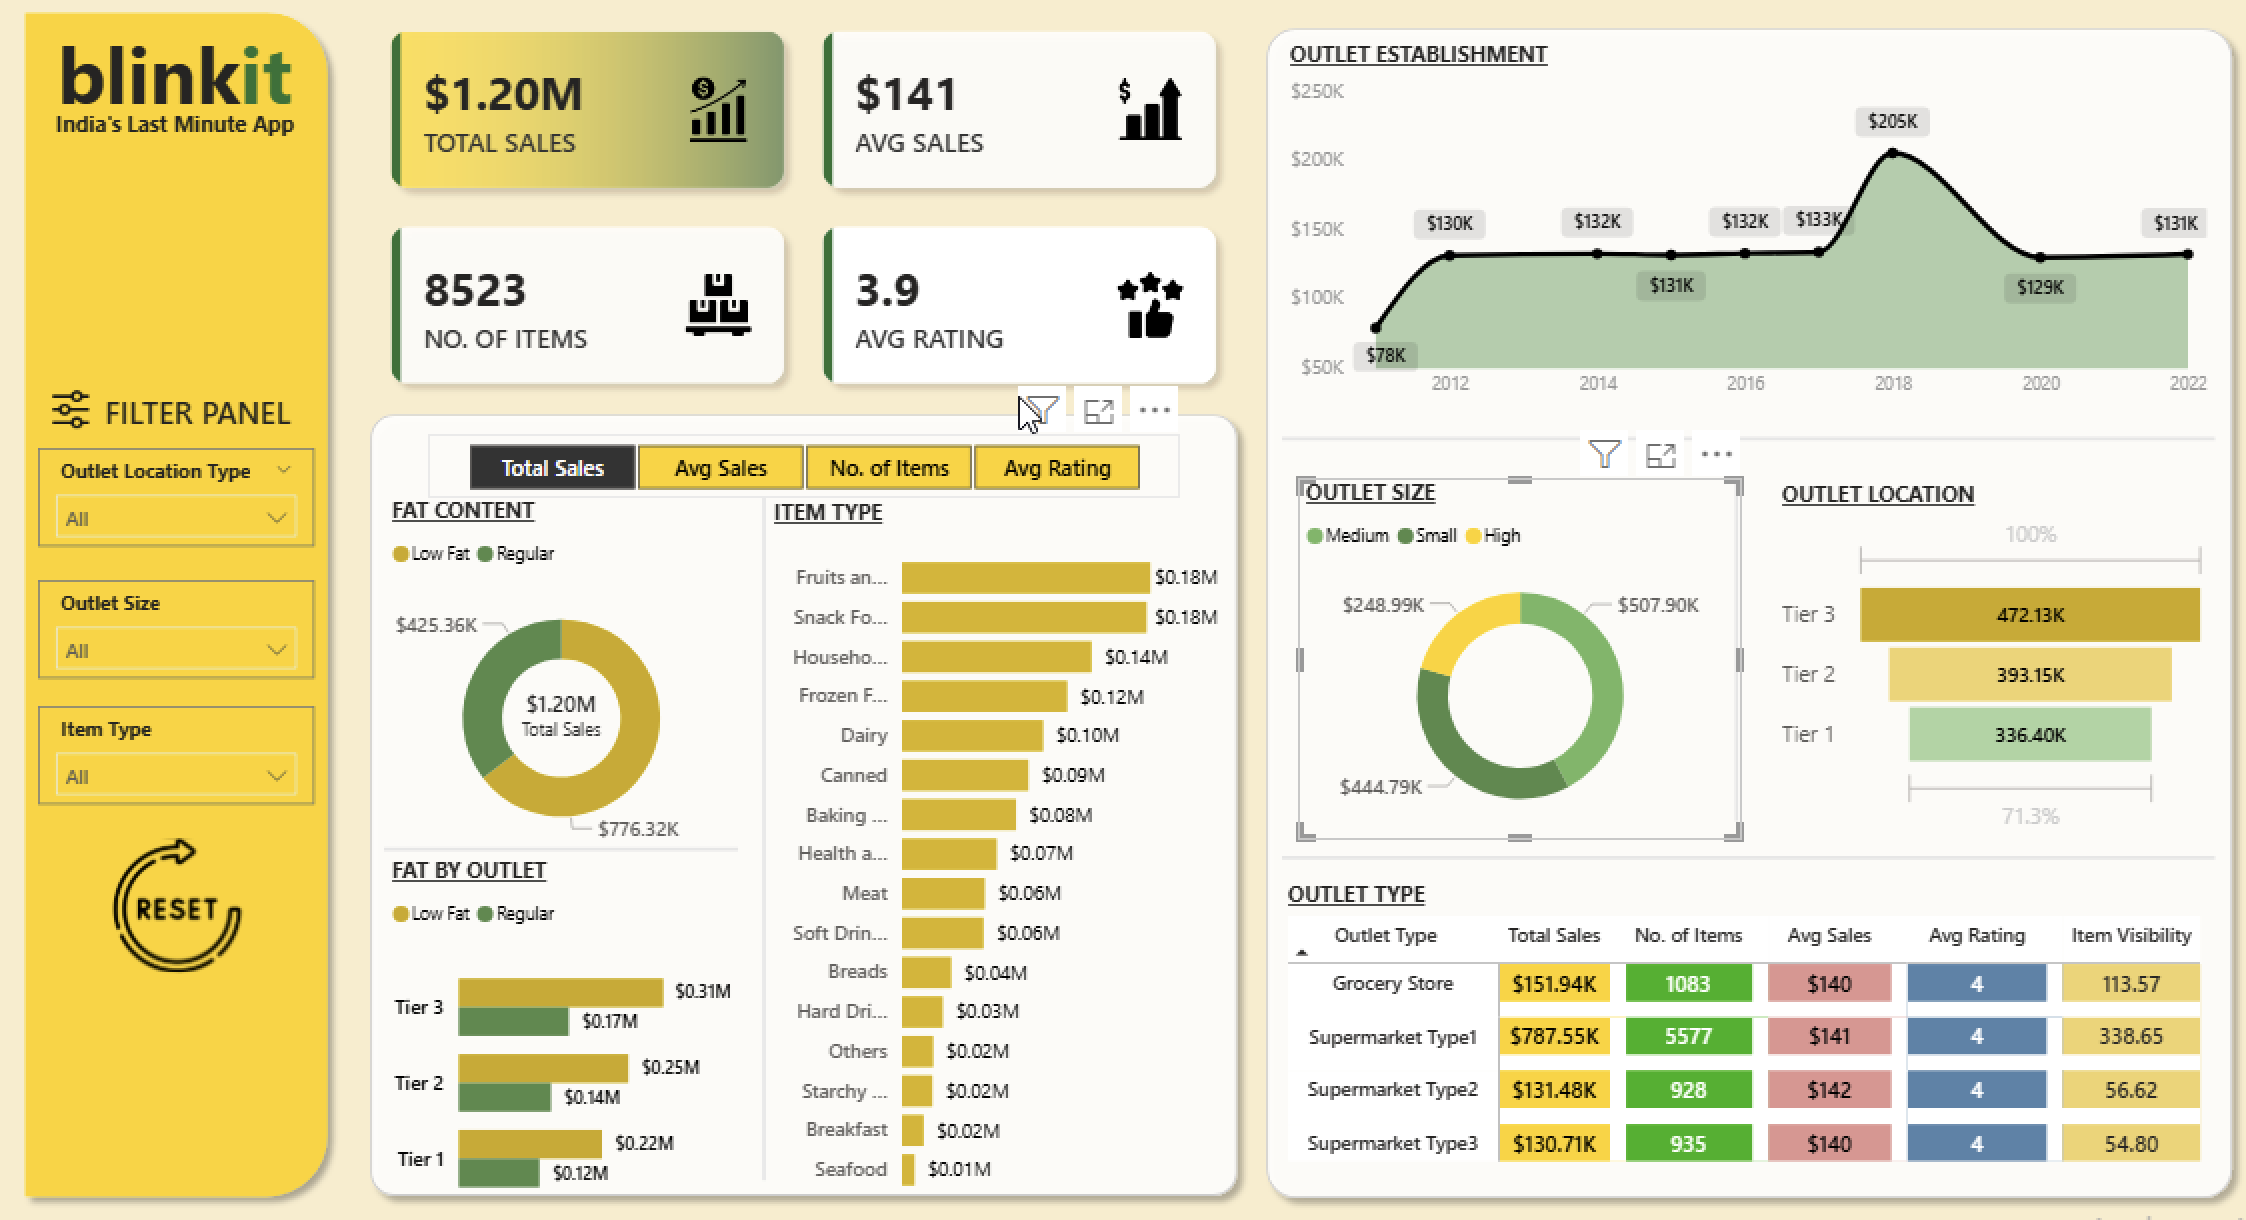

Layout of this report page (visuals, bound fields, positions):
{"tool":"powerbi","page":{"name":"Page 1","canvas":[1400,800],"ordinal":0},"visuals":[{"type":"shape","box":[17.8,24.2,205.3,750.1],"z":0},{"type":"textbox","box":[35.2,33.8,169.2,78.5],"z":1000},{"type":"textbox","box":[35.2,89.4,169.2,28.4],"z":2000},{"type":"cardVisual","fields":{"Data":["Blinkit Grocery Data.Total Sales","Blinkit Grocery Data.Average Sales","Blinkit Grocery Data.No. of Items","Blinkit Grocery Data.Average Rating"]},"box":[223.8,15.9,569.8,277.6],"z":3000},{"type":"shape","box":[231.5,273.5,553.8,501],"z":4000},{"type":"slicer","fields":{"Values":["Parameter.Parameter"]},"box":[276.2,293.8,464.4,40.6],"z":5000},{"type":"donutChart","title":"FAT CONTENT","fields":{"Y":["Blinkit Grocery Data.Total Sales"],"Category":["Blinkit Grocery Data.Item Fat Content"]},"box":[249.1,333.1,219.3,230.2],"z":6000},{"type":"cardVisual","fields":{"Data":["Blinkit Grocery Data.Total Sales"]},"box":[297.9,433.3,120.5,69.1],"z":7000},{"type":"clusteredBarChart","title":"FAT BY OUTLET","fields":{"Y":["Blinkit Grocery Data.Total Sales"],"Category":["Blinkit Grocery Data.Outlet Location Type"],"Series":["Blinkit Grocery Data.Item Fat Content"]},"box":[249.1,555.1,219.3,230.2],"z":8000},{"type":"shape","box":[249.1,541.6,219.3,19],"z":9000},{"type":"shape","box":[476.6,334.4,14.9,422.4],"z":10000},{"type":"barChart","title":"ITEM TYPE","fields":{"Y":["Blinkit Grocery Data.Total Sales"],"Category":["Blinkit Grocery Data.Item Type"]},"box":[484.7,334.4,284.3,440],"z":11000},{"type":"shape","box":[785,34.2,615,741],"z":12000},{"type":"lineChart","title":"OUTLET ESTABLISHMENT","fields":{"Y":["Blinkit Grocery Data.Total Sales"],"Category":["Blinkit Grocery Data.Outlet Establishment Year"]},"box":[803.3,50.1,577.1,231.1],"z":13000},{"type":"shape","box":[803.3,283.7,577.1,28.1],"z":14000},{"type":"donutChart","title":"OUTLET SIZE","fields":{"Y":["Blinkit Grocery Data.Total Sales"],"Category":["Blinkit Grocery Data.Outlet Size"]},"box":[813.7,320.9,274.9,224.8],"z":15000},{"type":"shape","box":[1080.5,323.6,8.1,209.9],"z":16000},{"type":"funnel","title":"OUTLET LOCATION","fields":{"Y":["Sum(Blinkit Grocery Data.Sales)"],"Category":["Blinkit Grocery Data.Outlet Location Type"]},"box":[1107.5,322.2,273.5,223.4],"z":17000},{"type":"shape","box":[803.3,546.6,577.1,19.6],"z":18000},{"type":"pivotTable","title":"OUTLET TYPE","fields":{"Rows":["Blinkit Grocery Data.Outlet Type"],"Values":["Blinkit Grocery Data.Total Sales","Blinkit Grocery Data.No. of Items","Blinkit Grocery Data.Avg Sales","Blinkit Grocery Data.Avg Rating","Sum(Blinkit Grocery Data.Item Visibility)"]},"box":[802.9,570,578.1,211.2],"z":19000},{"type":"slicer","fields":{"Values":["Blinkit Grocery Data.Outlet Location Type"]},"box":[35.2,303.3,170.6,60.9],"z":20000},{"type":"slicer","fields":{"Values":["Blinkit Grocery Data.Outlet Size"]},"box":[35.2,384.5,170.6,60.9],"z":21000},{"type":"slicer","fields":{"Values":["Blinkit Grocery Data.Item Type"]},"box":[35.2,463.1,170.6,60.9],"z":22000},{"type":"textbox","box":[68.5,262.9,130.8,37.9],"z":23000},{"type":"image","box":[35.5,264.1,37.9,29.3],"z":24000},{"type":"actionButton","box":[68.7,540.9,103.7,91.1],"z":25000}]}

Visuals, with their boxes on the page's 1400x800 design canvas (x1, y1, x2, y2). These are canvas units, not pixel positions in the 2246x1220 screenshot, which may show the page scaled, cropped or inside an application window:
shape: {"x1": 18, "y1": 24, "x2": 223, "y2": 774}
textbox: {"x1": 35, "y1": 34, "x2": 204, "y2": 112}
textbox: {"x1": 35, "y1": 89, "x2": 204, "y2": 118}
cardVisual - Blinkit Grocery Data.Total Sales x Blinkit Grocery Data.Average Sales: {"x1": 224, "y1": 16, "x2": 794, "y2": 294}
shape: {"x1": 232, "y1": 274, "x2": 785, "y2": 774}
slicer - Parameter.Parameter: {"x1": 276, "y1": 294, "x2": 741, "y2": 334}
"FAT CONTENT" donutChart: {"x1": 249, "y1": 333, "x2": 468, "y2": 563}
cardVisual - Blinkit Grocery Data.Total Sales: {"x1": 298, "y1": 433, "x2": 418, "y2": 502}
"FAT BY OUTLET" clusteredBarChart: {"x1": 249, "y1": 555, "x2": 468, "y2": 785}
shape: {"x1": 249, "y1": 542, "x2": 468, "y2": 561}
shape: {"x1": 477, "y1": 334, "x2": 492, "y2": 757}
"ITEM TYPE" barChart: {"x1": 485, "y1": 334, "x2": 769, "y2": 774}
shape: {"x1": 785, "y1": 34, "x2": 1400, "y2": 775}
"OUTLET ESTABLISHMENT" lineChart: {"x1": 803, "y1": 50, "x2": 1380, "y2": 281}
shape: {"x1": 803, "y1": 284, "x2": 1380, "y2": 312}
"OUTLET SIZE" donutChart: {"x1": 814, "y1": 321, "x2": 1089, "y2": 546}
shape: {"x1": 1080, "y1": 324, "x2": 1089, "y2": 534}
"OUTLET LOCATION" funnel: {"x1": 1108, "y1": 322, "x2": 1381, "y2": 546}
shape: {"x1": 803, "y1": 547, "x2": 1380, "y2": 566}
"OUTLET TYPE" pivotTable: {"x1": 803, "y1": 570, "x2": 1381, "y2": 781}
slicer - Blinkit Grocery Data.Outlet Location Type: {"x1": 35, "y1": 303, "x2": 206, "y2": 364}
slicer - Blinkit Grocery Data.Outlet Size: {"x1": 35, "y1": 384, "x2": 206, "y2": 445}
slicer - Blinkit Grocery Data.Item Type: {"x1": 35, "y1": 463, "x2": 206, "y2": 524}
textbox: {"x1": 68, "y1": 263, "x2": 199, "y2": 301}
image: {"x1": 36, "y1": 264, "x2": 73, "y2": 293}
actionButton: {"x1": 69, "y1": 541, "x2": 172, "y2": 632}
